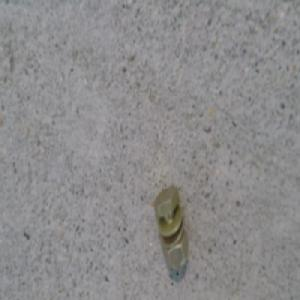BoltNutSet: (154, 182, 189, 269)
